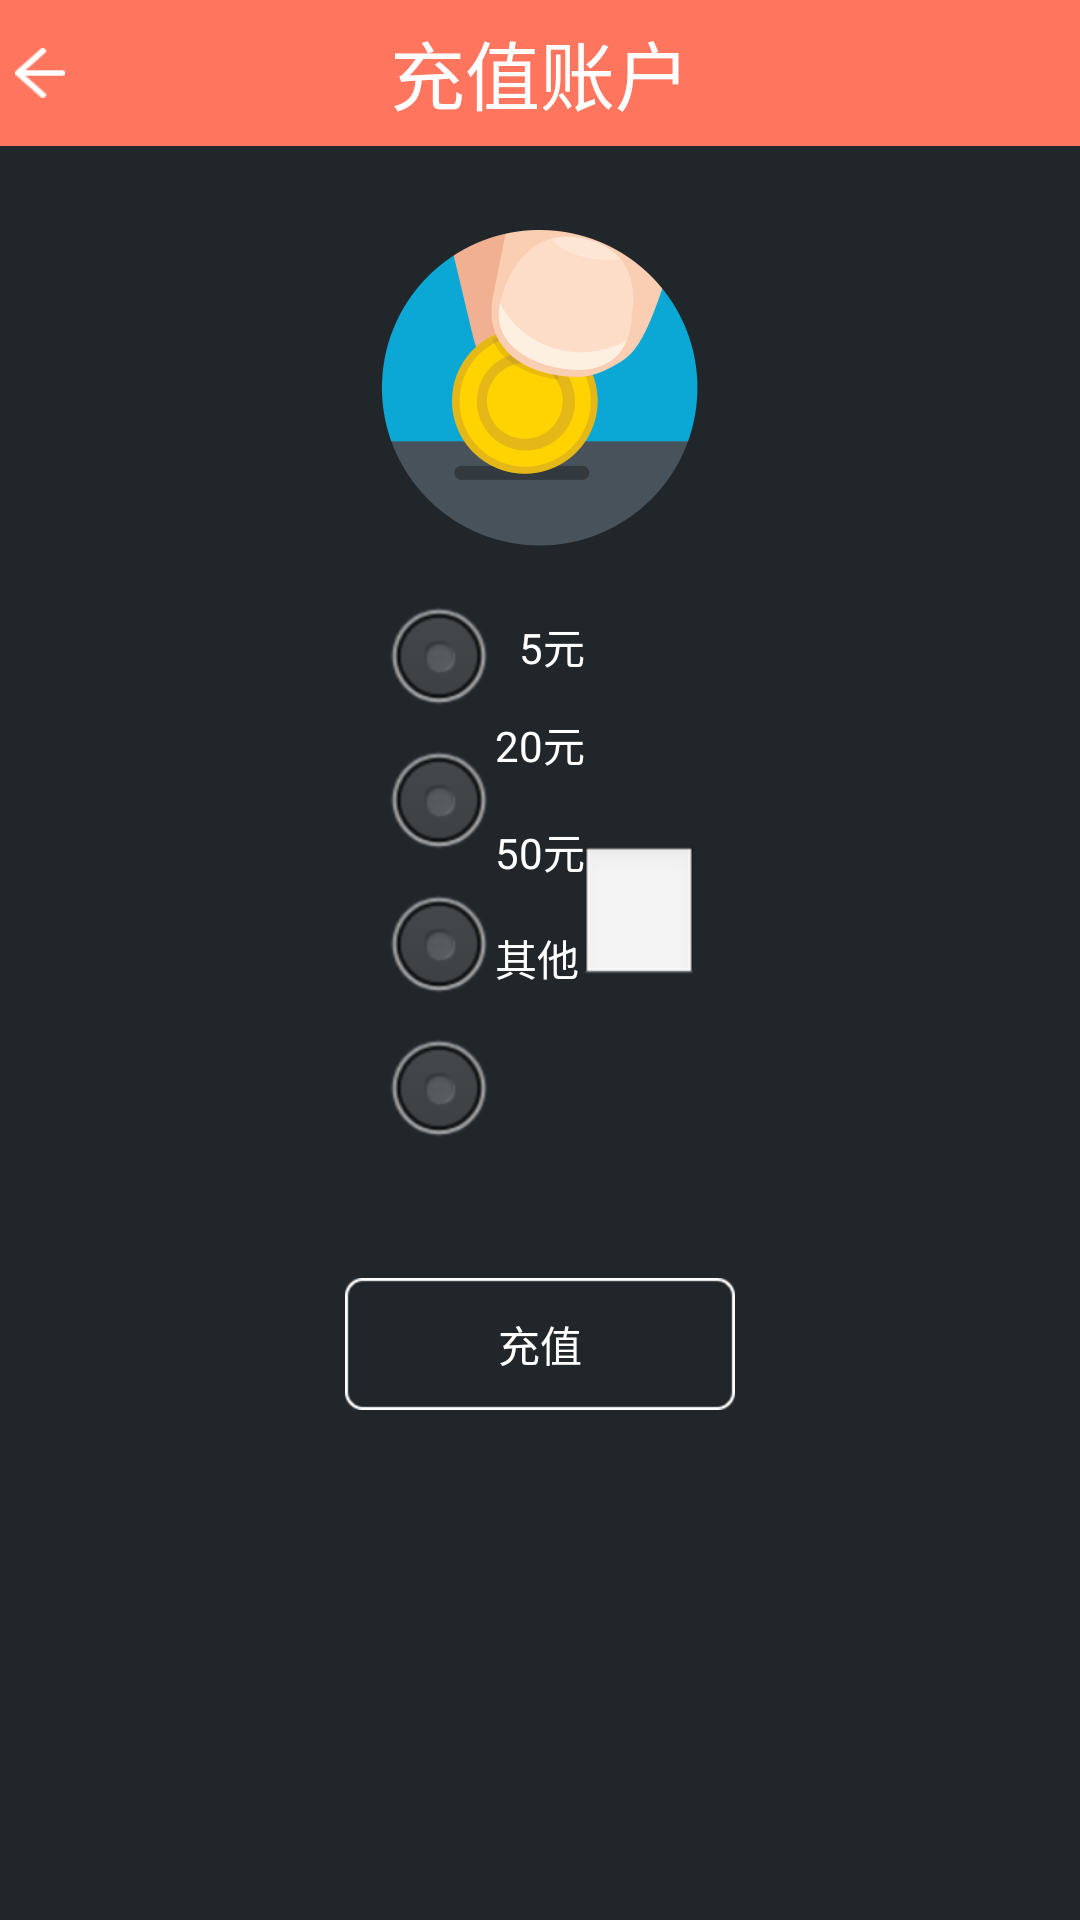

Where icons sit on this 1080 × 1920 app screen, as (x1, y1, x2, y2):
back: (15, 48, 65, 98)
recharg: (382, 230, 698, 545)
